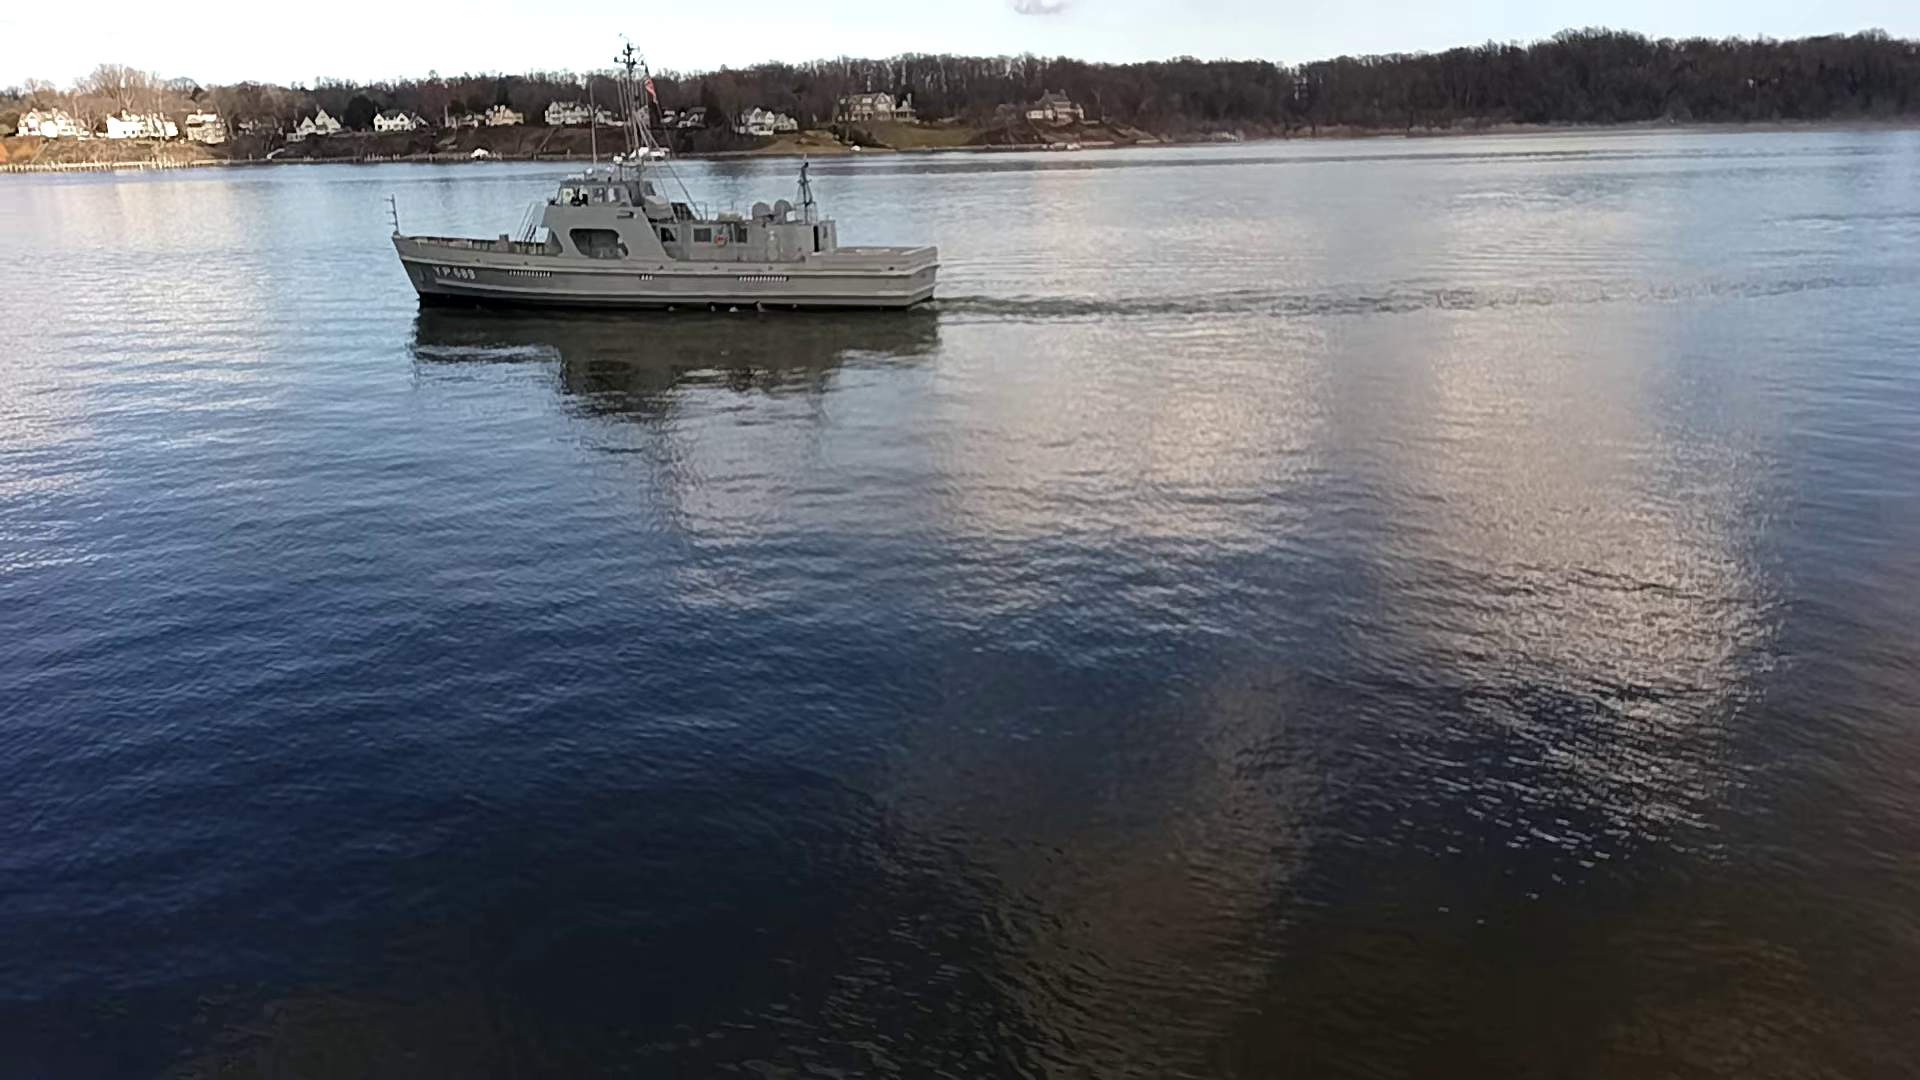YP689: (390, 42, 939, 314)
